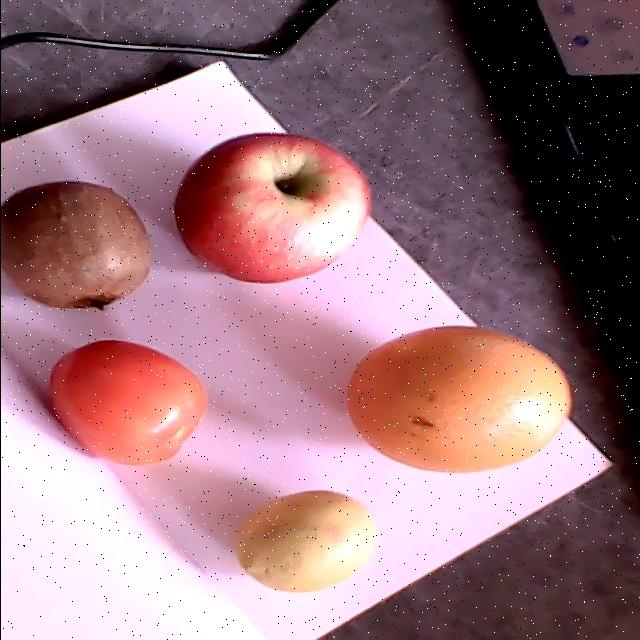apple: (173, 133, 370, 283)
kiwi: (1, 181, 150, 311)
lemon: (234, 490, 377, 593)
orange: (348, 325, 570, 472)
tomato: (49, 340, 205, 467)
